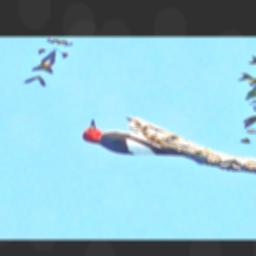Woodpecker: (62, 113, 222, 174)
